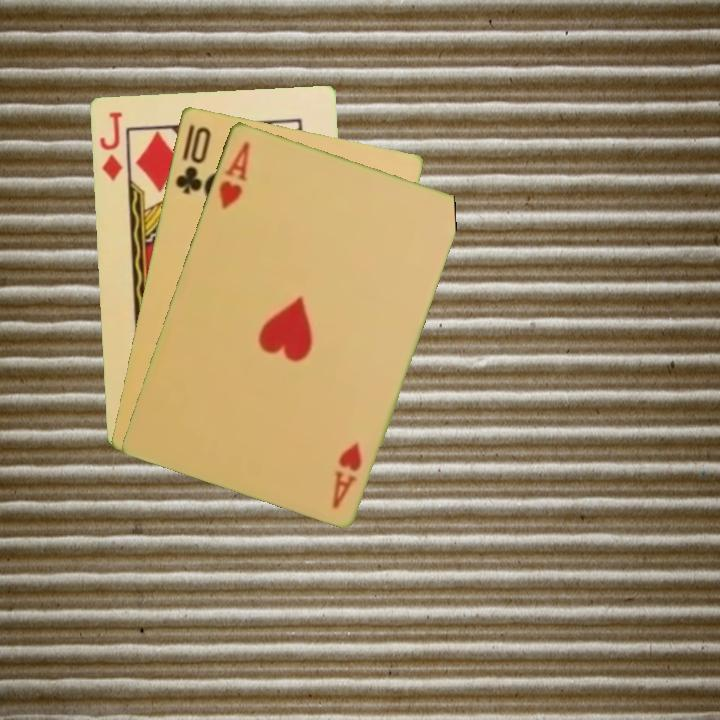10c: (171, 120, 214, 197)
Ah: (215, 137, 253, 211), (328, 437, 365, 511)
Jd: (96, 108, 125, 183)
